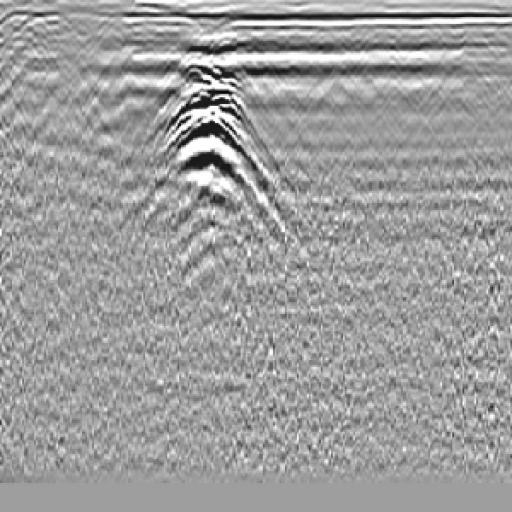metalic: (149, 60, 282, 227)
